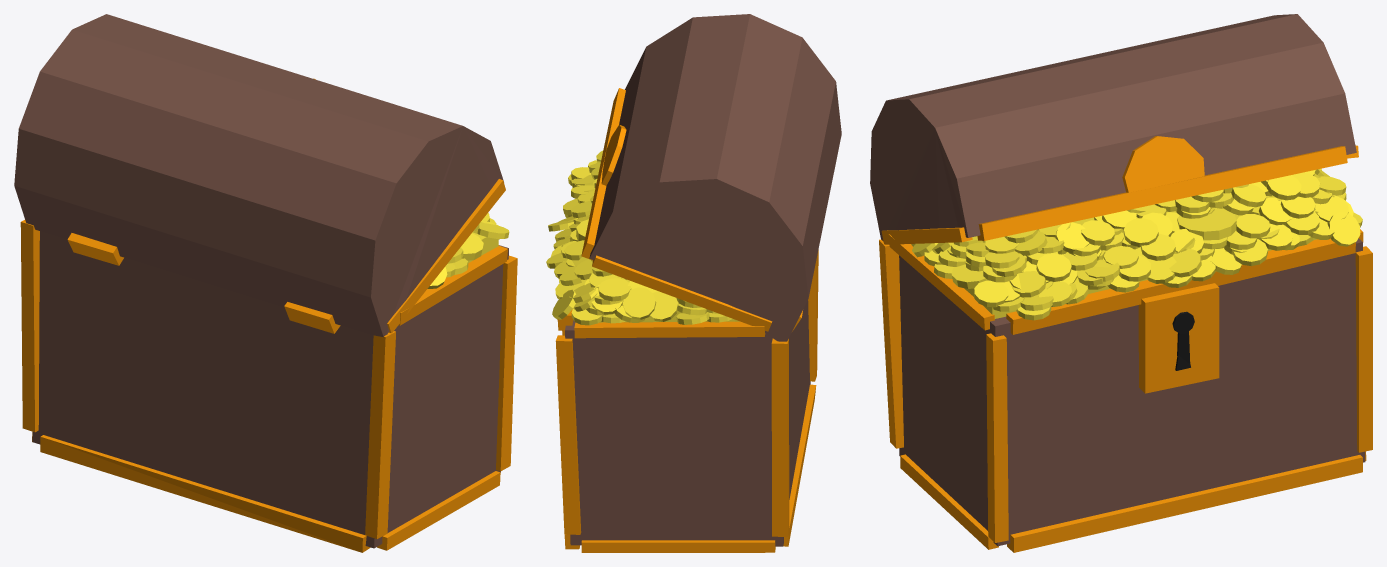
The model's file is Treasure_Chest.obj.
The picture shows the model from 3 angles, left to right: view 1: azimuth 30°, elevation 25°; view 2: azimuth 150°, elevation 25°; view 3: azimuth 270°, elevation 25°; orthographic projection. The views are drawn at different scales.
Visible parts, largest first — view 1: group944139164, group1673624899, group1176336403, group1253408431, group2130799938, group1188779229, group929752709, group2141862034, group833255169; view 2: group944139164, group1673624899, group2130799938, group1135518375, group621290532, group1111637101, group1596027011, group1849654143, group1176336403, group1253408431, group476825830, group608746827 (+4 smaller); view 3: group1673624899, group944139164, group1948885995, group1849654143, group89601079, group1276403759, group1188779229, group1253408431, group1135518375, group608746827, group833255169, group929752709 (+18 smaller).
Part boxes in pixels (x1,y1,x2,y2): group944139164: (14,14,503,337); group1673624899: (32,231,508,548); group1176336403: (40,435,370,552); group1253408431: (365,331,395,538); group2130799938: (20,220,39,432); group1188779229: (496,255,517,471); group929752709: (377,471,500,550); group2141862034: (387,179,505,333); group833255169: (399,245,507,325); group944139164: (589,14,841,341); group1673624899: (565,300,810,546); group2130799938: (771,338,789,536); group1135518375: (555,335,581,534); group621290532: (574,321,765,338); group1111637101: (581,540,775,552); group1596027011: (592,255,772,331); group1849654143: (581,88,625,260); group1176336403: (783,384,816,546); group1253408431: (808,249,818,381); group476825830: (623,287,656,319); group608746827: (601,124,626,185); group1673624899: (899,238,1365,546); group944139164: (870,14,1356,241); group1948885995: (1138,283,1219,393); group1849654143: (977,146,1347,240); group89601079: (1007,455,1362,552); group1276403759: (1006,238,1355,334); group1188779229: (986,333,1008,542); group1253408431: (879,239,903,448); group1135518375: (1355,246,1372,452); group608746827: (1122,136,1204,194); group833255169: (888,234,994,330); group929752709: (900,454,998,549).
Size of the model in its own units: 0.3611 by 0.3813 by 0.4293.
